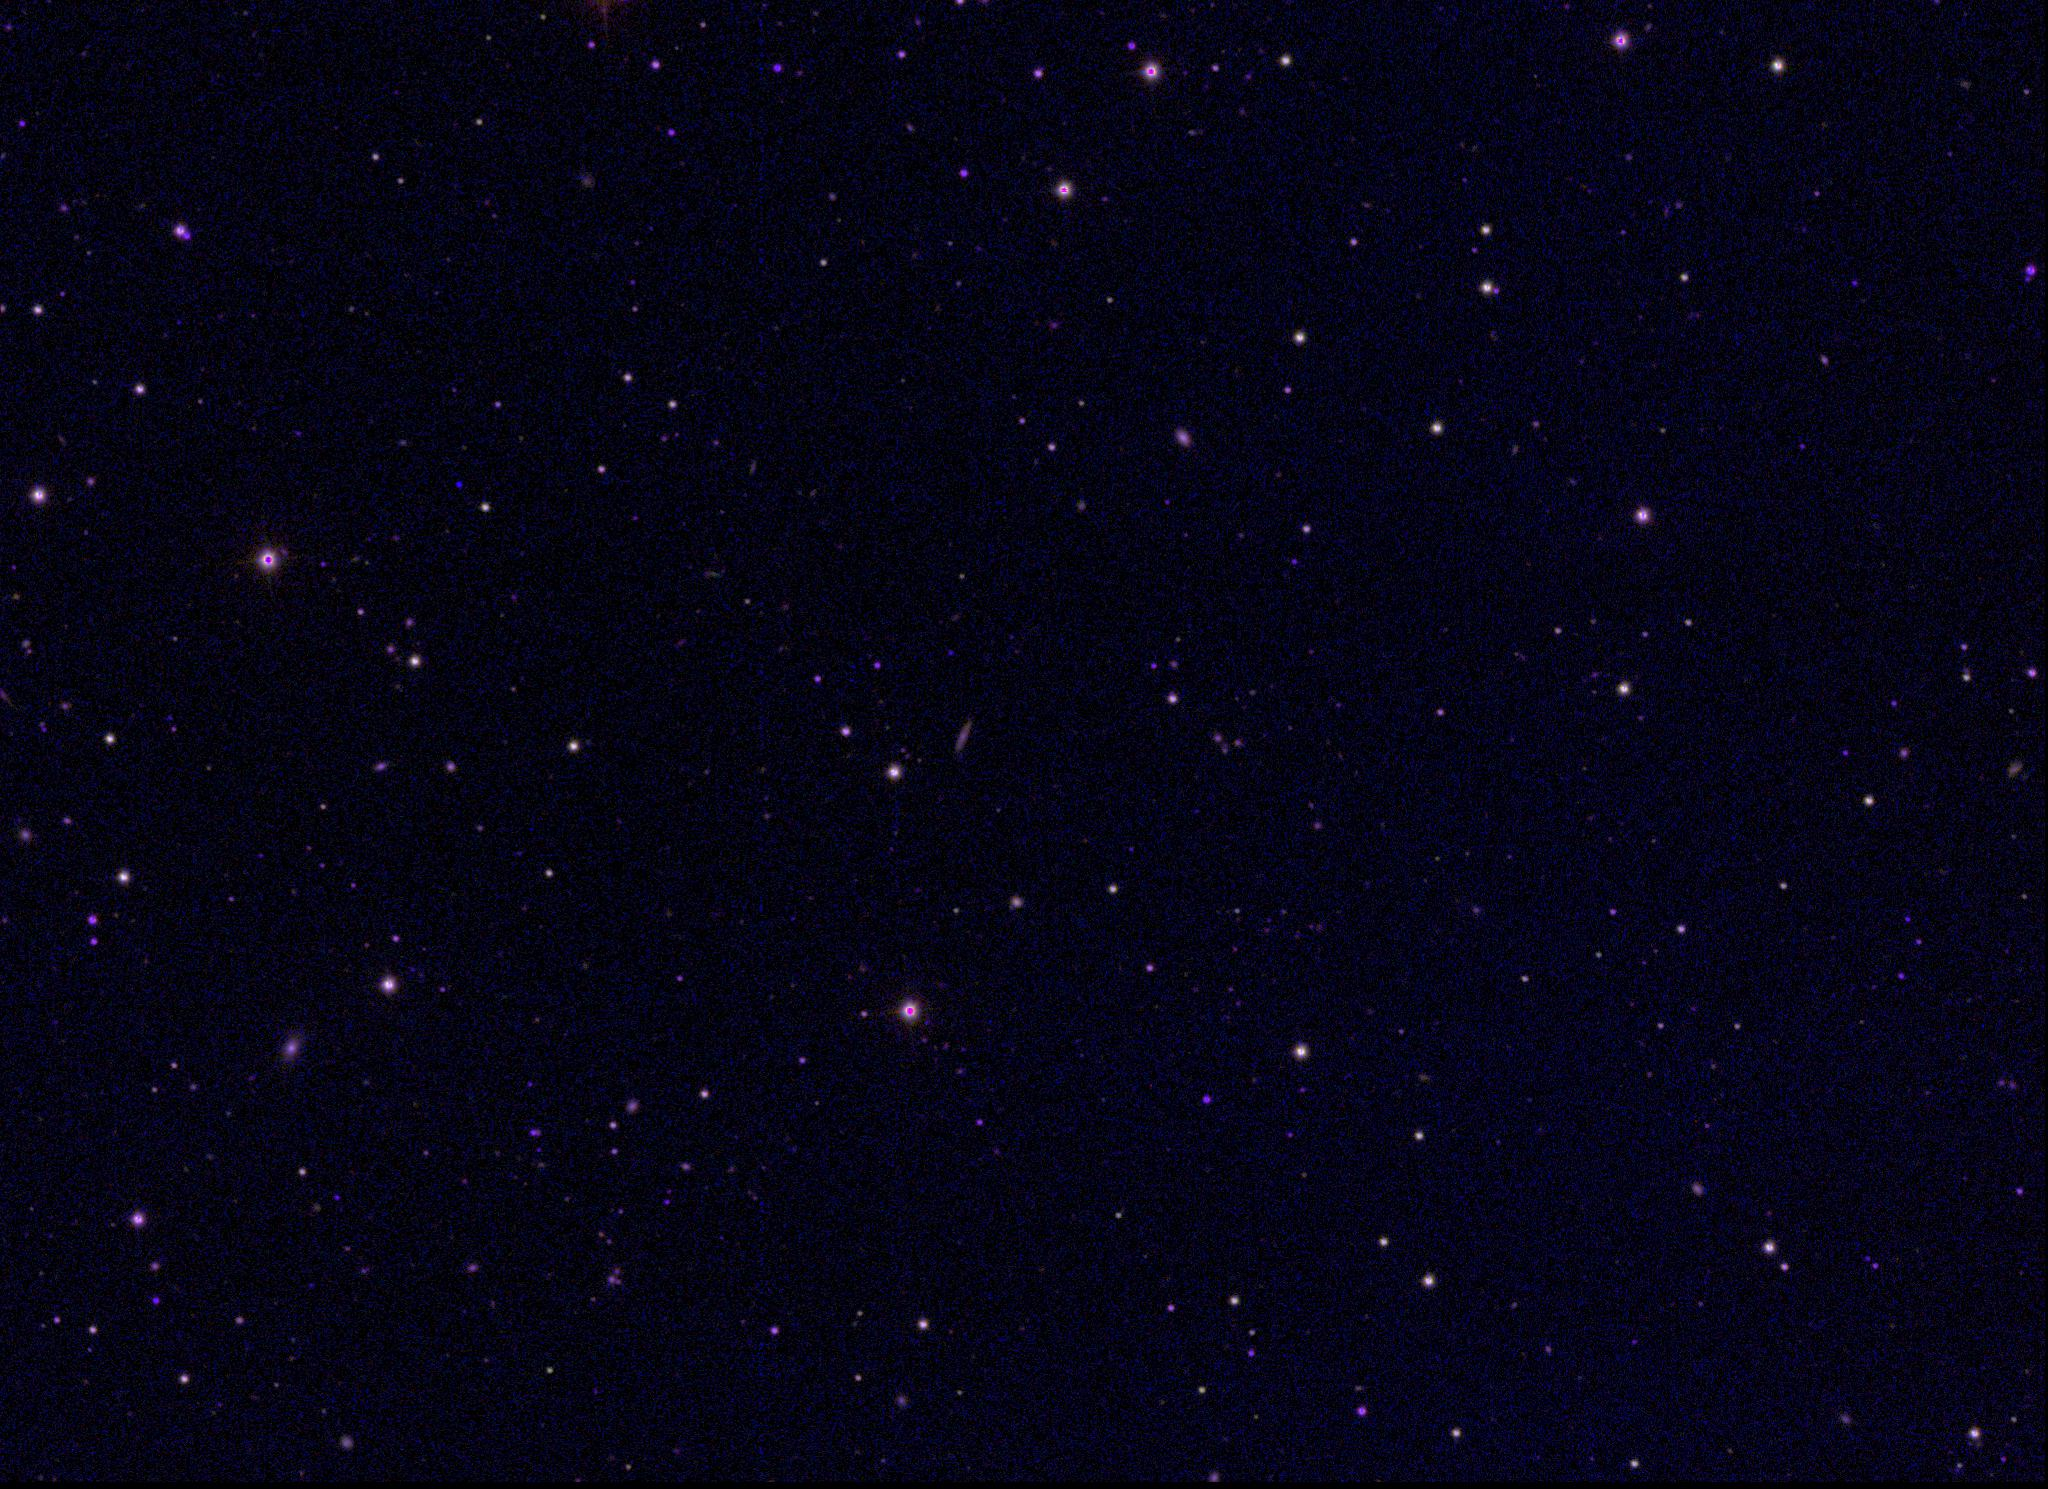L: (453, 477, 467, 492)
